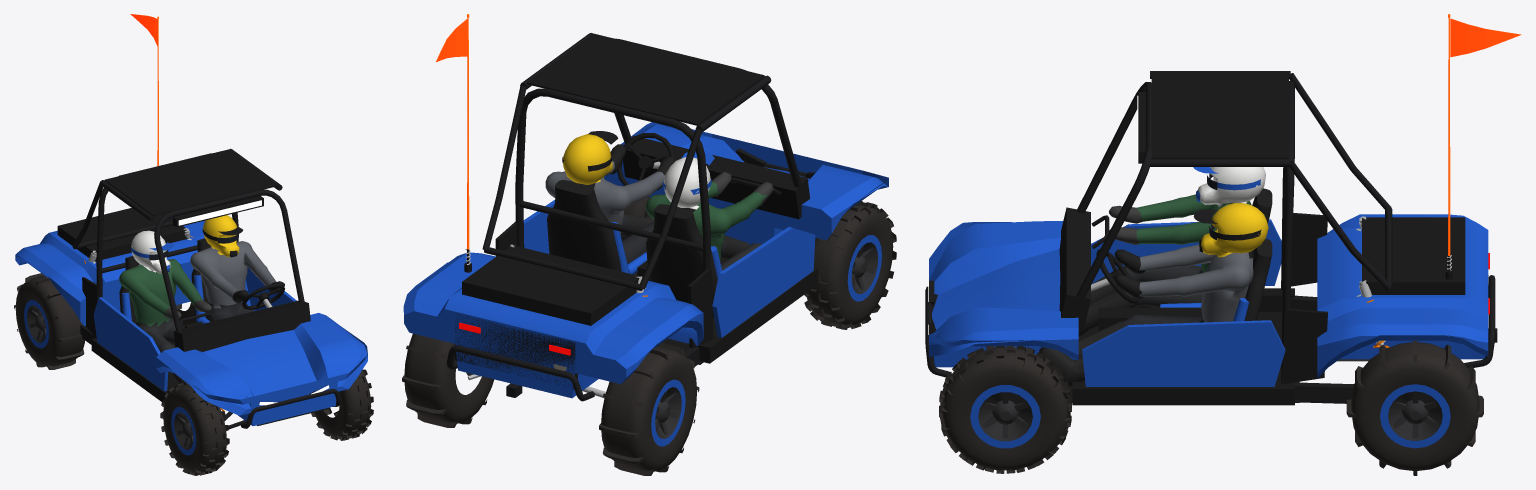
The model's file is ohv_utv.glb.
The picture shows the model from 3 angles, left to right: view 1: azimuth 30°, elevation 25°; view 2: azimuth 150°, elevation 25°; view 3: azimuth 270°, elevation 25°; orthographic projection. The views are drawn at different scales.
Visible parts, largest first — view 1: body, passenger, rider, wheel_RR, wheel_FR, wheel_FL, whip; view 2: body, wheel_RR, wheel_FR, rider, wheel_RL, passenger, whip; view 3: body, wheel_RL, wheel_FL, rider, passenger, whip.
Boxes of the visible parts, box(x1,y1,x2,y2) form: body: box(15, 148, 367, 429); passenger: box(119, 230, 211, 383); rider: box(190, 215, 284, 321); wheel_RR: box(14, 273, 84, 369); wheel_FR: box(160, 382, 229, 475); wheel_FL: box(311, 369, 373, 440); whip: box(130, 14, 158, 166); body: box(403, 33, 888, 401); wheel_RR: box(599, 343, 699, 475); wheel_FR: box(804, 201, 896, 329); rider: box(545, 131, 674, 263); wheel_RL: box(402, 333, 494, 427); passenger: box(645, 151, 773, 270); whip: box(436, 14, 471, 272); body: box(925, 71, 1497, 405); wheel_RL: box(1346, 340, 1483, 475); wheel_FL: box(939, 346, 1071, 473); rider: box(1039, 203, 1268, 387); passenger: box(1078, 167, 1265, 337); whip: box(1445, 14, 1521, 279).
Bounding box in the file's own units: 1.6 × 2.71 × 3.35.
